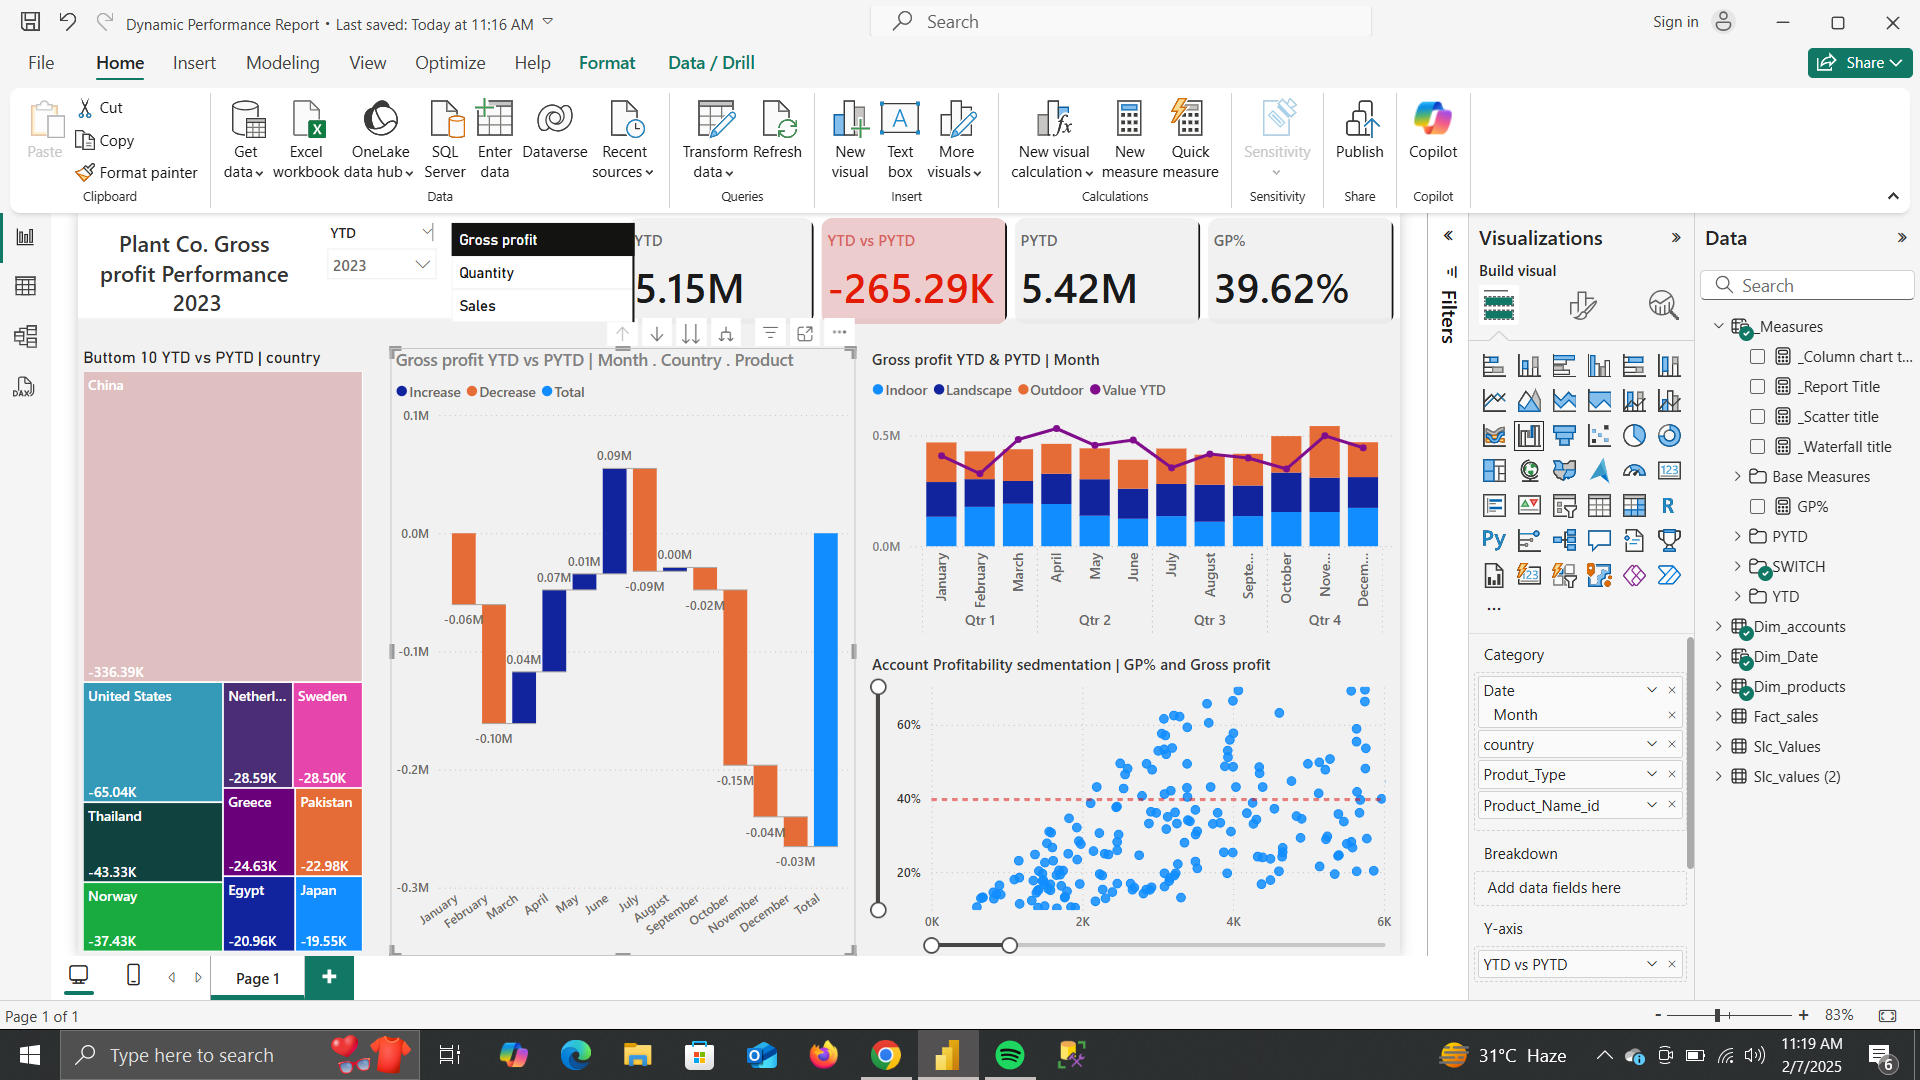

The page's visual inventory and layout, read from the dashboard file:
{"tool":"powerbi","page":{"name":"Page 1","canvas":[1280,720],"ordinal":0},"visuals":[{"type":"cardVisual","fields":{"Data":["_Measures.S_YTD","_Measures.YTD vs PYTD","_Measures.S_PYTD","_Measures.GP%"]},"box":[527.8,0,751.7,113.8],"z":0},{"type":"slicer","fields":{"Values":["Dim_Date.Date.Variation.Date Hierarchy.Year"]},"box":[231.2,4.8,125.9,100.5],"z":1000},{"type":"treemap","title":" Buttom 10 YTD vs PYTD | country","fields":{"Group":["Dim_accounts.country"],"Values":["_Measures.YTD vs PYTD"]},"box":[0,130.7,280.8,589.5],"z":2000},{"type":"waterfallChart","fields":{"Y":["_Measures.YTD vs PYTD"],"Category":["Dim_Date.Date.Variation.Date Hierarchy.Month","Dim_accounts.country","Dim_products.Produt_Type","Dim_products.Product_Name_id"]},"box":[302.6,130.7,450.3,589.5],"z":3000},{"type":"lineStackedColumnComboChart","fields":{"Y":["_Measures.S_PYTD"],"Y2":["_Measures.S_YTD"],"Category":["Dim_Date.Date.Variation.Date Hierarchy.Quarter","Dim_Date.Date.Variation.Date Hierarchy.Month"],"Series":["Dim_products.Produt_Type"]},"box":[763.8,130.7,515.7,286.9],"z":4000},{"type":"advancedSlicerVisual","fields":{"Values":["Slc_values (2).Values"]},"box":[357.1,4.8,187.6,108.9],"z":5000},{"type":"scatterChart","fields":{"X":["_Measures.S_YTD"],"Y":["_Measures.GP%"],"Category":["Dim_accounts.Account"]},"box":[763.8,426.1,515.7,294.2],"z":6000},{"type":"card","fields":{"Values":["_Measures._Report Title"]},"box":[0,0,231.2,105.3],"z":7000}]}

Visuals, with their boxes on the page's 1280x720 design canvas (x1, y1, x2, y2). These are canvas units, not pixel positions in the 1920x1080 screenshot, which may show the page scaled, cropped or inside an application window:
cardVisual - _Measures.S_YTD x _Measures.YTD vs PYTD: locate(528, 0, 1280, 114)
slicer - Dim_Date.Date.Variation.Date Hierarchy.Year: locate(231, 5, 357, 105)
" Buttom 10 YTD vs PYTD | country" treemap: locate(0, 131, 281, 720)
waterfallChart - _Measures.YTD vs PYTD x Dim_Date.Date.Variation.Date Hierarchy.Month: locate(303, 131, 753, 720)
lineStackedColumnComboChart - _Measures.S_PYTD x _Measures.S_YTD: locate(764, 131, 1280, 418)
advancedSlicerVisual - Slc_values (2).Values: locate(357, 5, 545, 114)
scatterChart - _Measures.S_YTD x _Measures.GP%: locate(764, 426, 1280, 720)
card - _Measures._Report Title: locate(0, 0, 231, 105)
